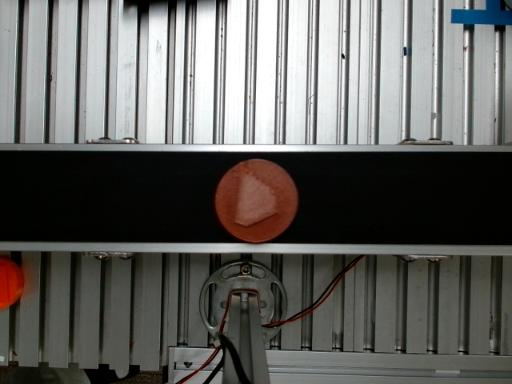Brown_Waper: (215, 159, 298, 242)
Not_Square: (235, 164, 278, 227)
